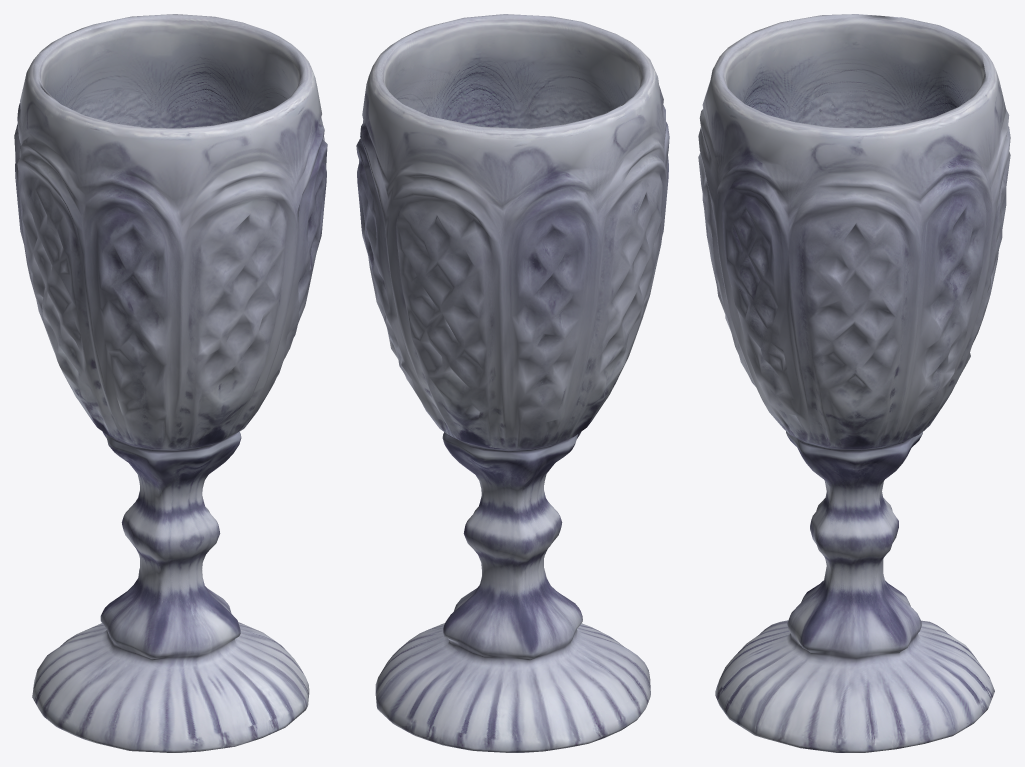
File: Glass_Goblet_Carouse_9.8InchesTall_TableTop_0222192714_texture.glb
3 views of the same model, side by side, from view 1: azimuth 30°, elevation 25°; view 2: azimuth 150°, elevation 25°; view 3: azimuth 270°, elevation 25° (orthographic).
Visible parts, largest first — view 1: Mesh_0; view 2: Mesh_0; view 3: Mesh_0.
Part boxes in pixels (<box>): Mesh_0: <box>14,14,327,752</box>; Mesh_0: <box>356,14,669,752</box>; Mesh_0: <box>698,14,1010,752</box>.
Bounding box in the file's own units: 0.113 × 0.2489 × 0.113.
Materials: 1 (1 with a texture image).
